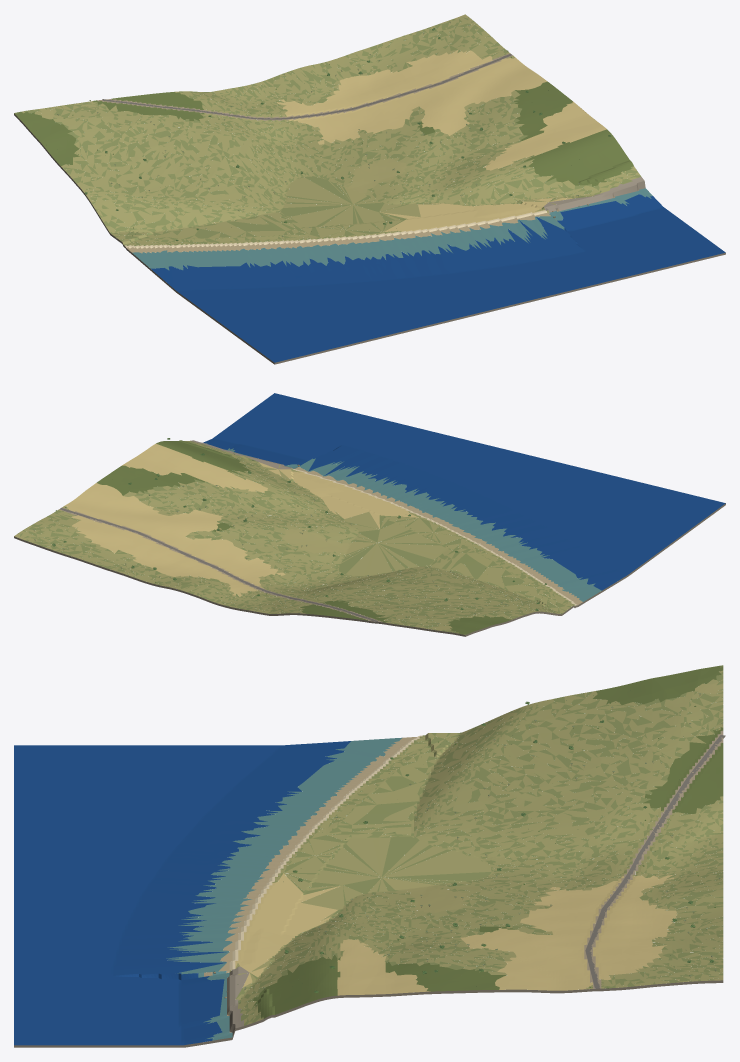
File: parca_+5_-10-yakin.glb
The picture shows the model from 3 angles, top to bottom: view 1: azimuth 30°, elevation 25°; view 2: azimuth 150°, elevation 25°; view 3: azimuth 270°, elevation 25°; orthographic projection. The views are drawn at different scales.
Visible parts, largest first — view 1: parca_+5_-10_arazi, parca_+5_-10_yollar, parca_+5_-10_bitkiler; view 2: parca_+5_-10_arazi, parca_+5_-10_yollar, parca_+5_-10_bitkiler; view 3: parca_+5_-10_arazi, parca_+5_-10_yollar, parca_+5_-10_bitkiler.
Boxes of the visible parts, <box> form: parca_+5_-10_arazi: <box>14,14,725,364</box>; parca_+5_-10_yollar: <box>102,54,511,119</box>; parca_+5_-10_bitkiler: <box>57,21,610,240</box>; parca_+5_-10_arazi: <box>14,393,725,636</box>; parca_+5_-10_yollar: <box>60,508,377,622</box>; parca_+5_-10_bitkiler: <box>33,438,561,624</box>; parca_+5_-10_arazi: <box>14,665,723,1047</box>; parca_+5_-10_yollar: <box>585,735,725,988</box>; parca_+5_-10_bitkiler: <box>237,677,723,1003</box>.
Size of the model in its own units: 1004 by 129 by 1004.
